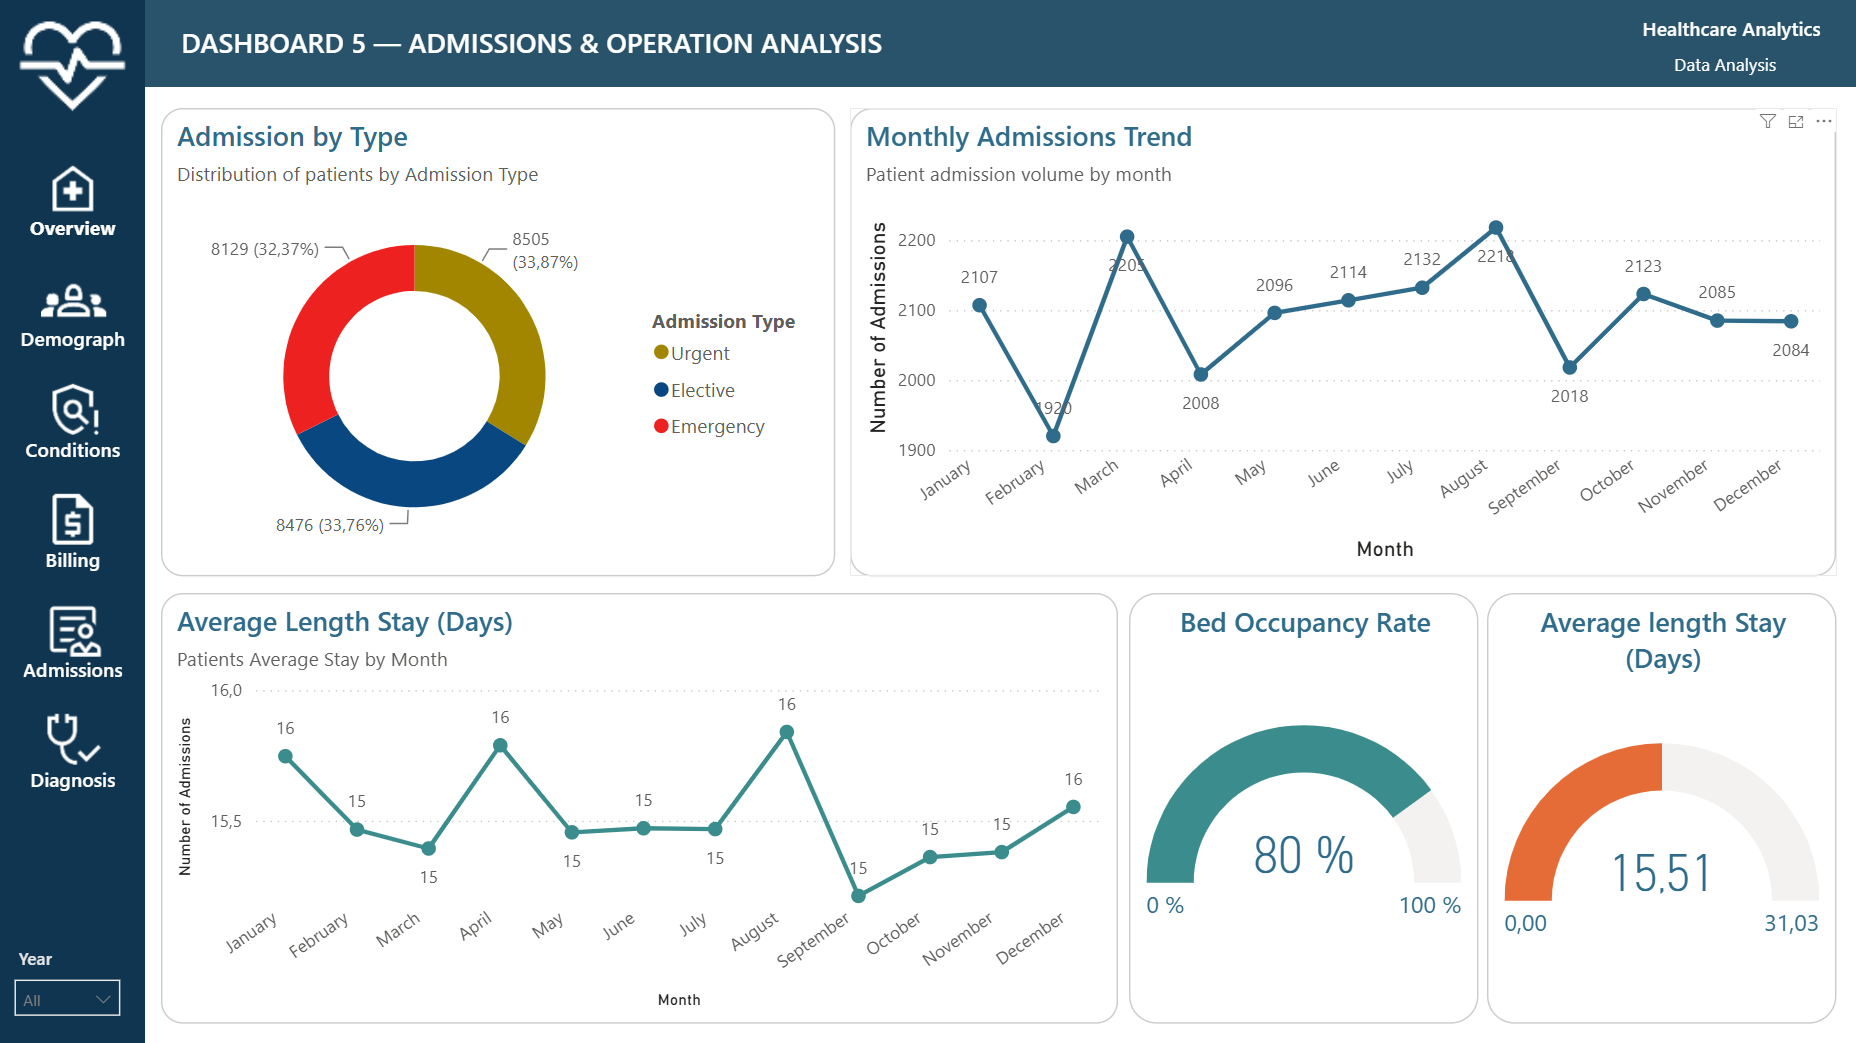

The page's visual inventory and layout, read from the dashboard file:
{"tool":"powerbi","page":{"name":"Admissions","canvas":[1280,720],"ordinal":4},"visuals":[{"type":"group","id":"g1","title":"Navigation Bar","box":[0,0,100,720],"z":0},{"type":"shape","title":"Sidebar","box":[0,0,100,720],"z":1000,"group":"g1"},{"type":"shape","box":[99.9,0,1180.1,60.2],"z":1000},{"type":"actionButton","title":"NAV - Overview","box":[8.6,105,84,64],"z":1500,"group":"g1"},{"type":"textbox","title":"Left header title","box":[120,12,500.7,35],"z":2000},{"type":"actionButton","title":"NAV - Demographics","box":[8.6,181,84,64.5],"z":2000,"group":"g1"},{"type":"textbox","box":[1070.2,5.5,190.4,29.5],"z":3000},{"type":"actionButton","title":"NAV - Conditions","box":[8.6,257,84,64.5],"z":3000,"group":"g1"},{"type":"textbox","box":[1113.2,29.5,153.6,30.1],"z":4000},{"type":"actionButton","title":"NAV - Billing","box":[8.6,333,84,64.5],"z":4000,"group":"g1"},{"type":"image","box":[0,0,99.6,89.7],"z":5000},{"type":"actionButton","title":"NAV - Admissions","box":[8.6,409,84,64.5],"z":5000,"group":"g1"},{"type":"donutChart","title":"Admission by Type","fields":{"Category":["Healthcare Dataset.Admission Type"],"Y":["Healthcare Dataset.Total Patients"]},"box":[110.7,74.2,464.5,322.9],"z":6000},{"type":"actionButton","title":"NAV - Diagnosis","box":[8.6,485,84,64.5],"z":6000,"group":"g1"},{"type":"lineChart","title":"Monthly Admissions Trend","fields":{"Category":["Healthcare Dataset.Date of Admission.Variation.Date Hierarchy.Month"],"Y":["Healthcare Dataset.Total Patients"]},"box":[586.4,74.2,680.4,322.9],"z":7000},{"type":"lineChart","title":"Average Length Stay (Days)","fields":{"Category":["Healthcare Dataset.Date of Admission.Variation.Date Hierarchy.Month"],"Y":["Healthcare Dataset.Average Stay"]},"box":[110.7,408.9,660,296.9],"z":8000},{"type":"gauge","title":"Average length Stay (Days)","fields":{"Y":["Healthcare Dataset.Average Stay"]},"box":[1025.6,408.9,241.2,296.9],"z":9000},{"type":"gauge","fields":{"Y":["Healthcare Dataset.Bed Occupancy Rate"]},"box":[778.8,408.9,241.2,296.9],"z":10000},{"type":"slicer","fields":{"Values":["Healthcare Dataset.Date of Admission.Variation.Date Hierarchy.Year"]},"box":[0,647.6,92.8,55.1],"z":11000}]}

Visuals, with their boxes in screenshot pixels (x1, y1, x2, y2), scaled from the page's 1280x720 canvas onto the 1856x1043 screenshot:
"Navigation Bar" group: 0,0,145,1042
"Sidebar" shape: 0,0,145,1042
shape: 145,0,1855,87
"NAV - Overview" actionButton: 12,152,134,245
"Left header title" textbox: 174,17,900,68
"NAV - Demographics" actionButton: 12,262,134,356
textbox: 1552,8,1828,51
"NAV - Conditions" actionButton: 12,372,134,466
textbox: 1614,43,1837,86
"NAV - Billing" actionButton: 12,482,134,576
image: 0,0,144,130
"NAV - Admissions" actionButton: 12,592,134,686
"Admission by Type" donutChart: 161,107,834,575
"NAV - Diagnosis" actionButton: 12,703,134,796
"Monthly Admissions Trend" lineChart: 850,107,1837,575
"Average Length Stay (Days)" lineChart: 161,592,1118,1022
"Average length Stay (Days)" gauge: 1487,592,1837,1022
gauge - Healthcare Dataset.Bed Occupancy Rate: 1129,592,1479,1022
slicer - Healthcare Dataset.Date of Admission.Variation.Date Hierarchy.Year: 0,938,135,1018
